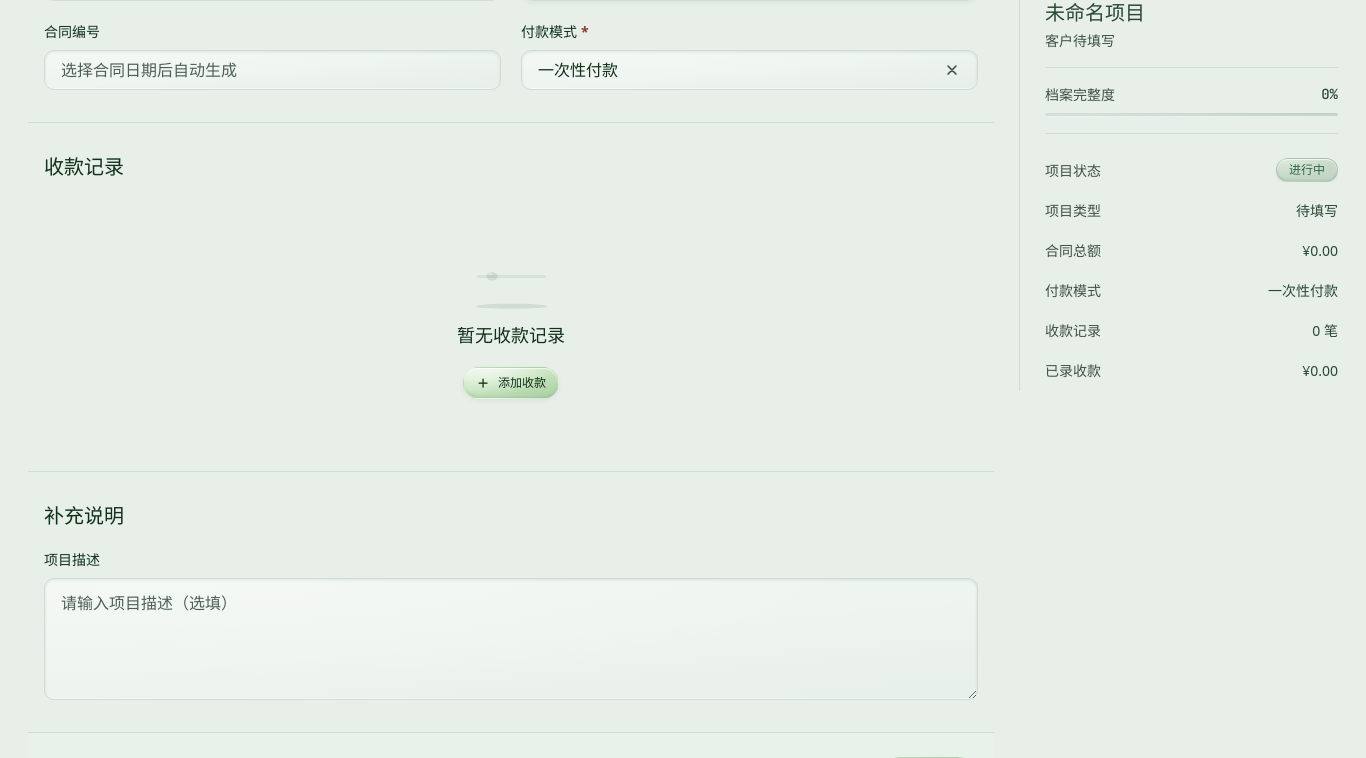
Scenario: ProjectCreateView design system migration › marks missing required fields, describes errors in Chinese and focuses the first field
(page scrolled)
Step 1. Click the button "添加收款" → (511, 383), box [463,367,559,399]
(page scrolled)
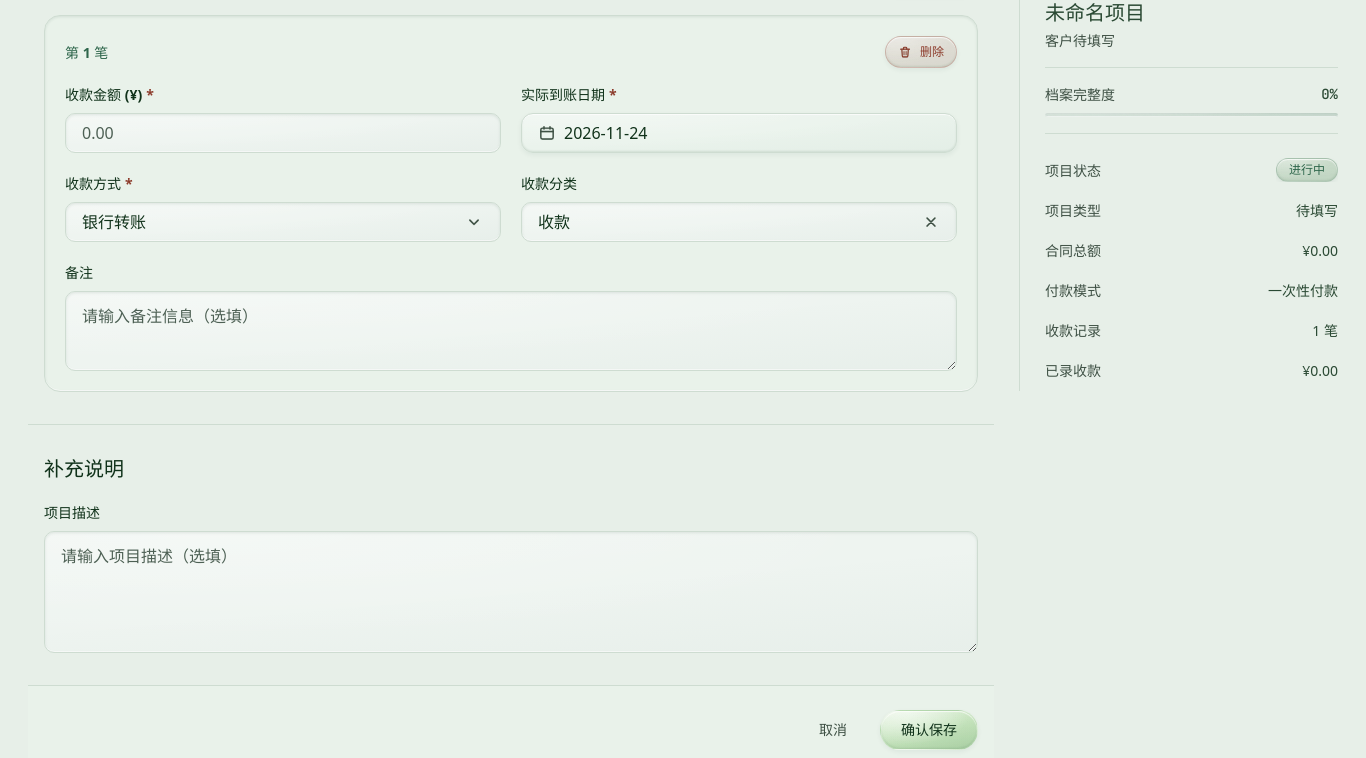
Step 2. Click the button "确认保存" → (929, 730), box [880,710,978,750]
(page scrolled)
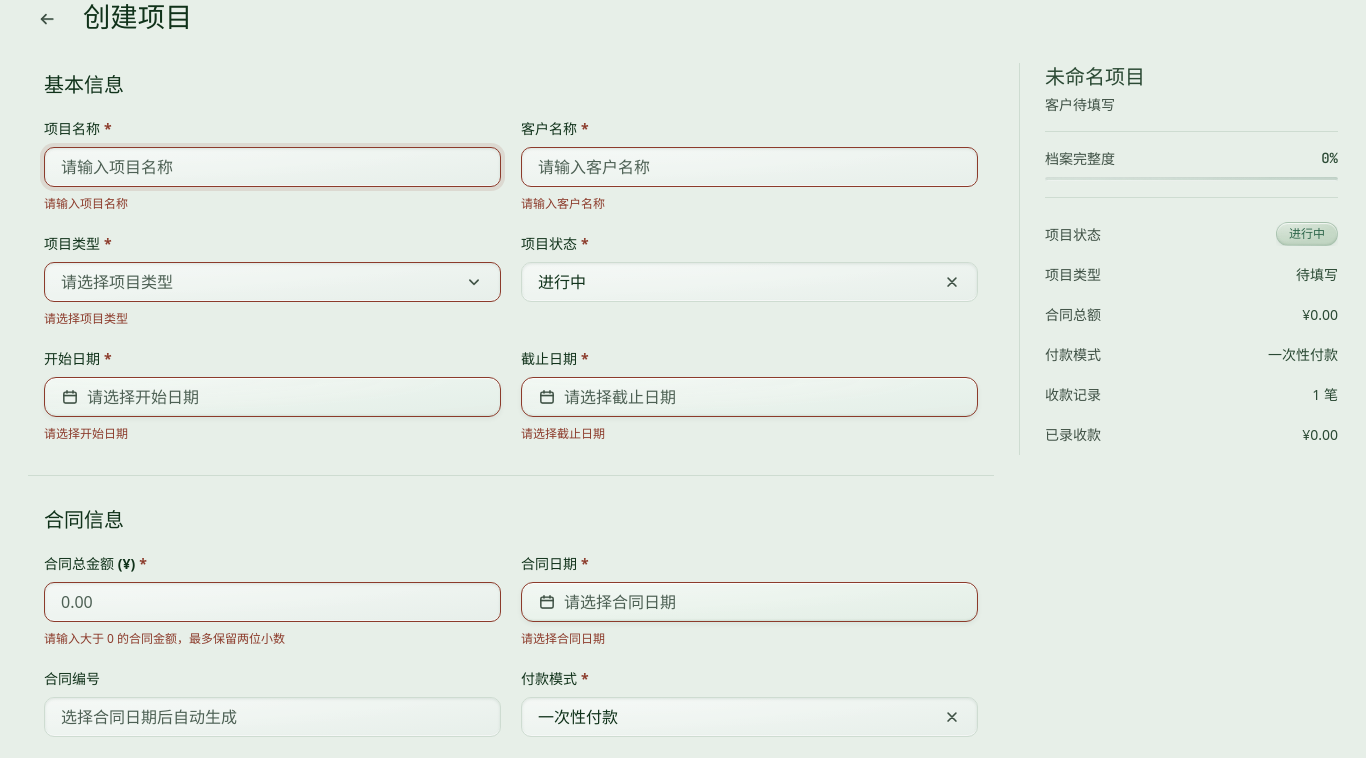
Check: the field labelled "项目名称*" is marked as invalid
Check: the field labelled "客户名称*" is marked as invalid, box [521,147,978,187]
Check: the field labelled "合同总金额 (¥)*" is marked as invalid, box [44,582,501,622]
Step 3. Type "新的项目" into the field labelled "项目名称*" → (272, 167), box [44,147,501,187]
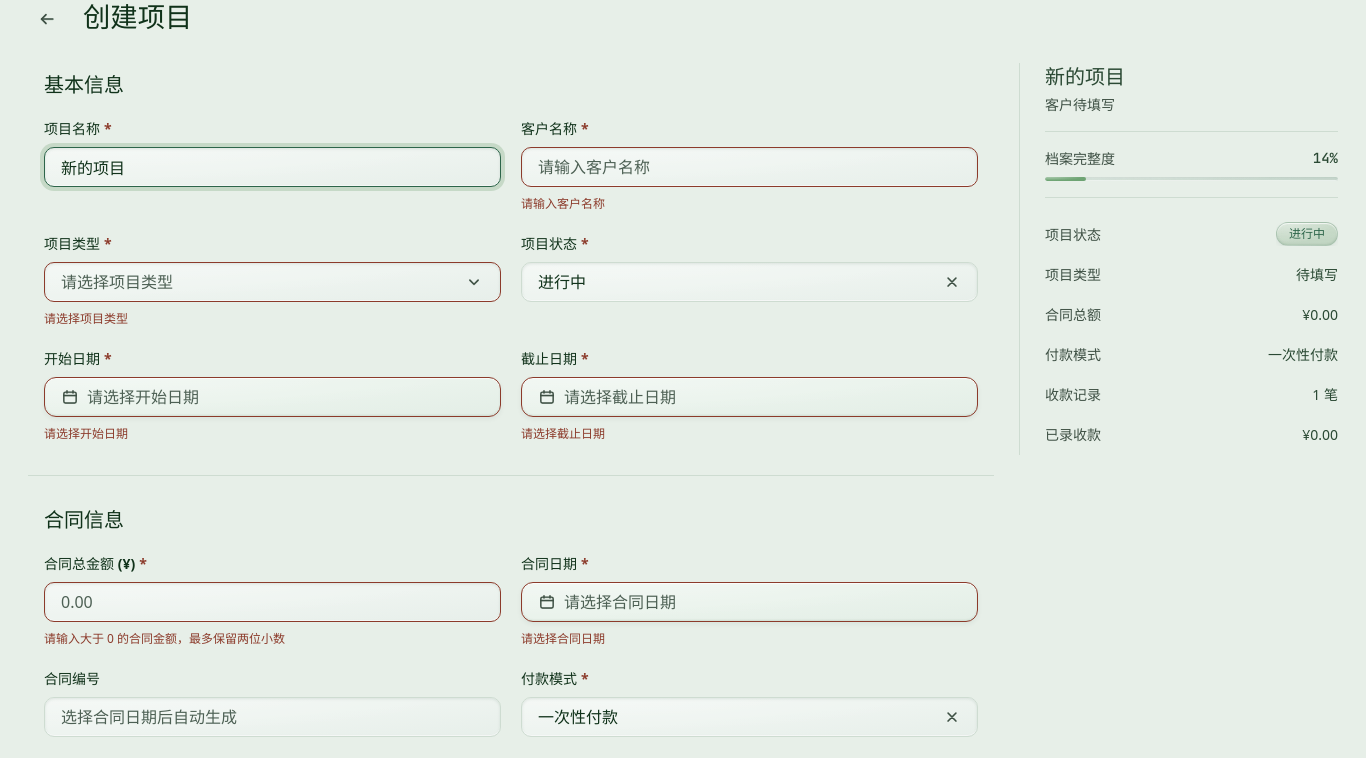
Check: the text "请输入项目名称" is gone
